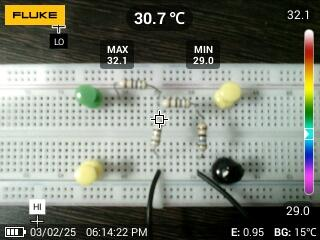resistor: (117, 75, 149, 94), (194, 119, 210, 155), (149, 114, 164, 151), (159, 96, 193, 111)
